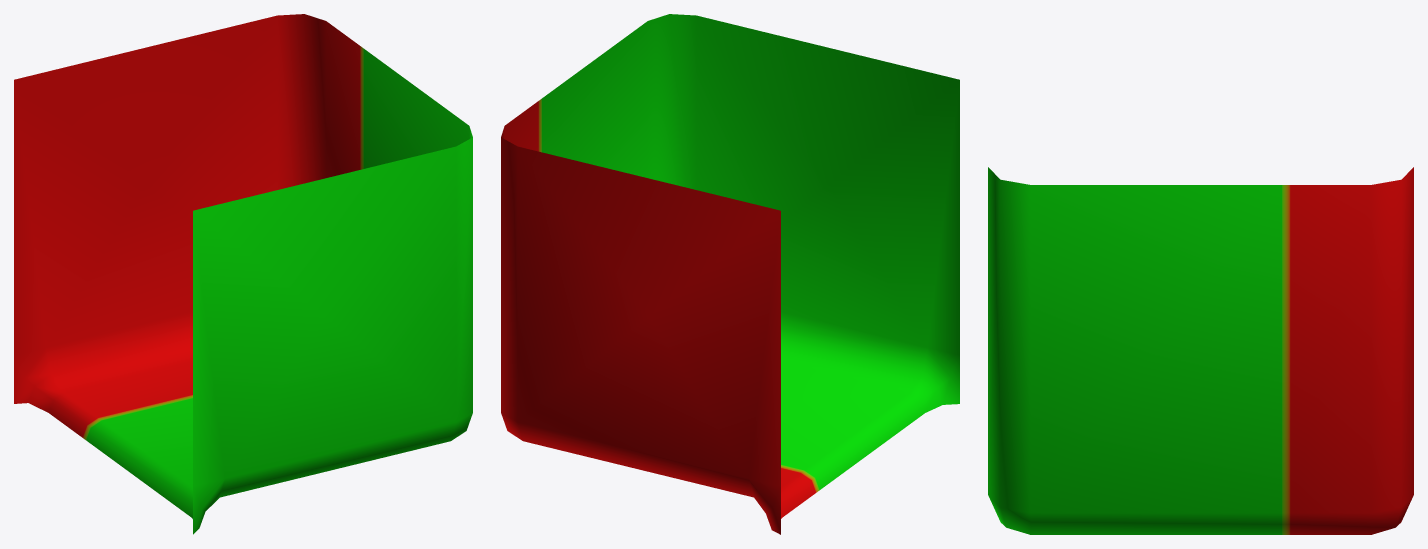
Rendered from Grass-L┐.fbx.
3 views of the same model, side by side, from view 1: azimuth 30°, elevation 25°; view 2: azimuth 150°, elevation 25°; view 3: azimuth 270°, elevation 25° (orthographic). The views are drawn at different scales.
Parts seen in each view (by area): view 1: Grass-L┐; view 2: Grass-L┐; view 3: Grass-L┐.
Boxes of the visible parts, box(x1,y1,x2,y2) form: Grass-L┐: box(14, 14, 472, 534); Grass-L┐: box(501, 14, 959, 534); Grass-L┐: box(988, 167, 1413, 534).
Bounding box in the file's own units: 95 × 100 × 100.
